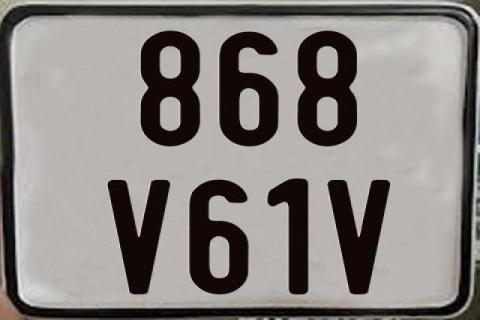0: (139, 30, 203, 148), (297, 30, 362, 146), (186, 180, 251, 296), (216, 30, 279, 146), (266, 176, 308, 297)
V: (104, 179, 172, 295), (326, 179, 390, 295)
